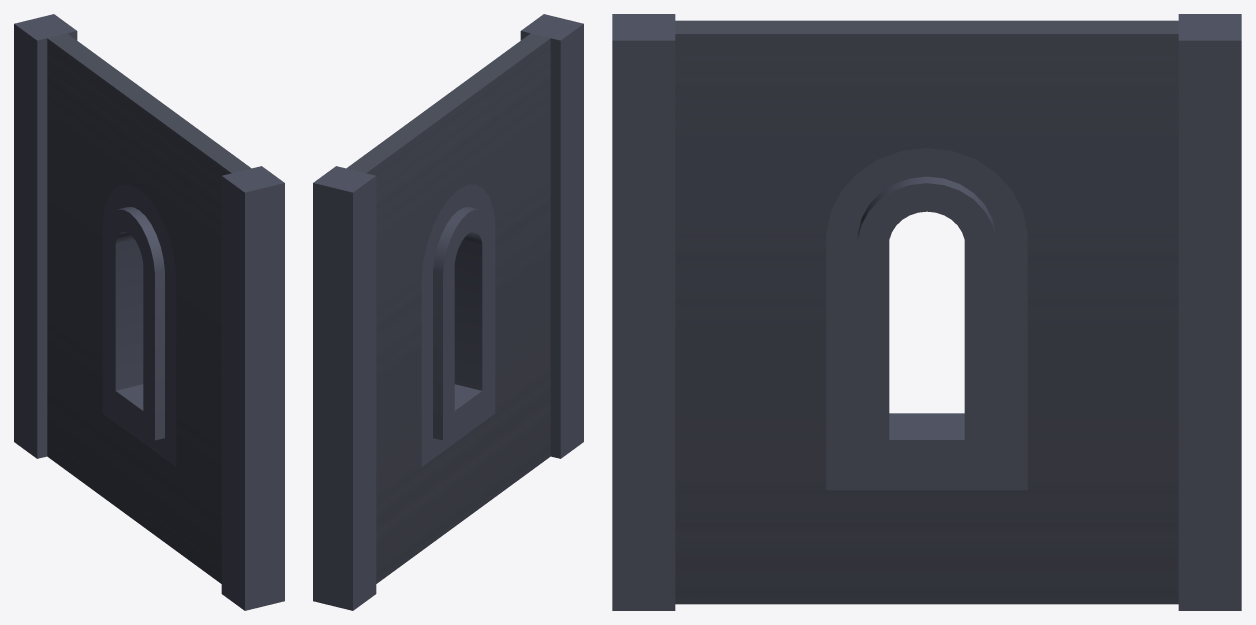
Rendered from wall-window-round.glb.
The picture shows the model from 3 angles, left to right: view 1: azimuth 30°, elevation 25°; view 2: azimuth 150°, elevation 25°; view 3: azimuth 270°, elevation 25°; orthographic projection. The views are drawn at different scales.
Visible parts, largest first — view 1: wall-window-round; view 2: wall-window-round; view 3: wall-window-round.
Part boxes in pixels (x1,y1,x2,y2): wall-window-round: (14,14,284,610); wall-window-round: (313,14,583,610); wall-window-round: (612,14,1241,610).
Size of the model in its own units: 0.1 by 1 by 1.
1 material, 1 textured.
